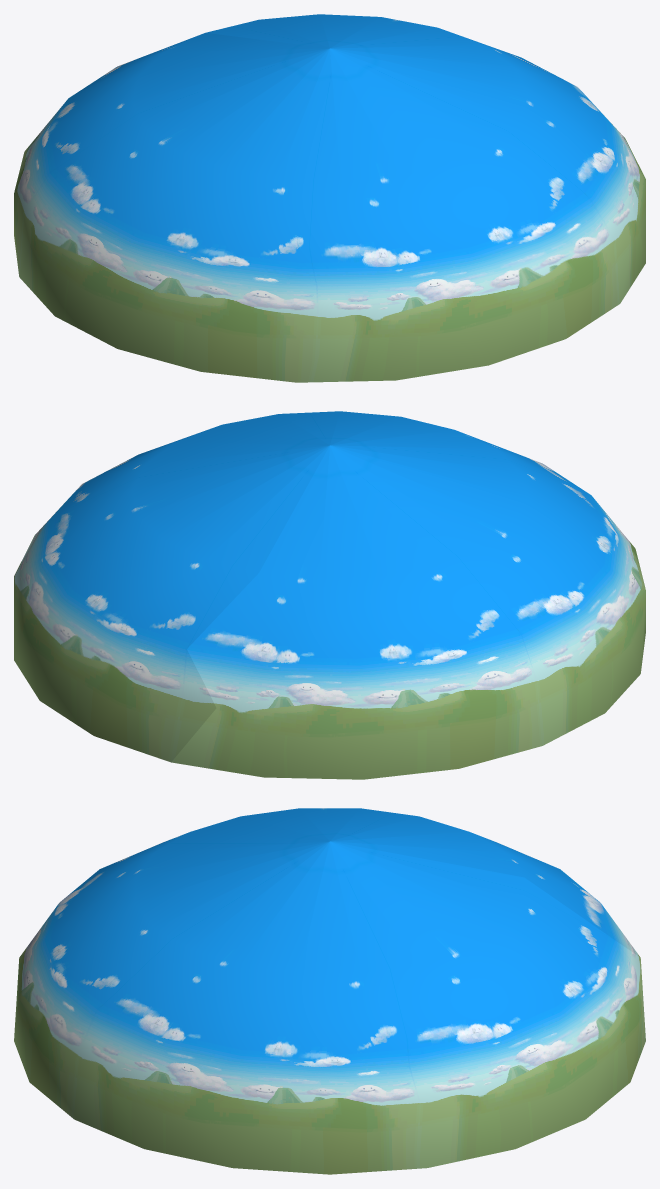
Rendered from babyluigi_sky.dae.
3 views of the same model, one above another, from view 1: azimuth 30°, elevation 25°; view 2: azimuth 150°, elevation 25°; view 3: azimuth 270°, elevation 25° (orthographic).
Parts seen in each view (by area): view 1: n0b0; view 2: n0b0; view 3: n0b0.
Boxes of the visible parts, <box> form: n0b0: <box>14,14,645,382</box>; n0b0: <box>14,411,645,779</box>; n0b0: <box>14,808,645,1174</box>.
Bounding box in the file's own units: 335304 × 116888 × 335304.
1 material, 1 textured.
